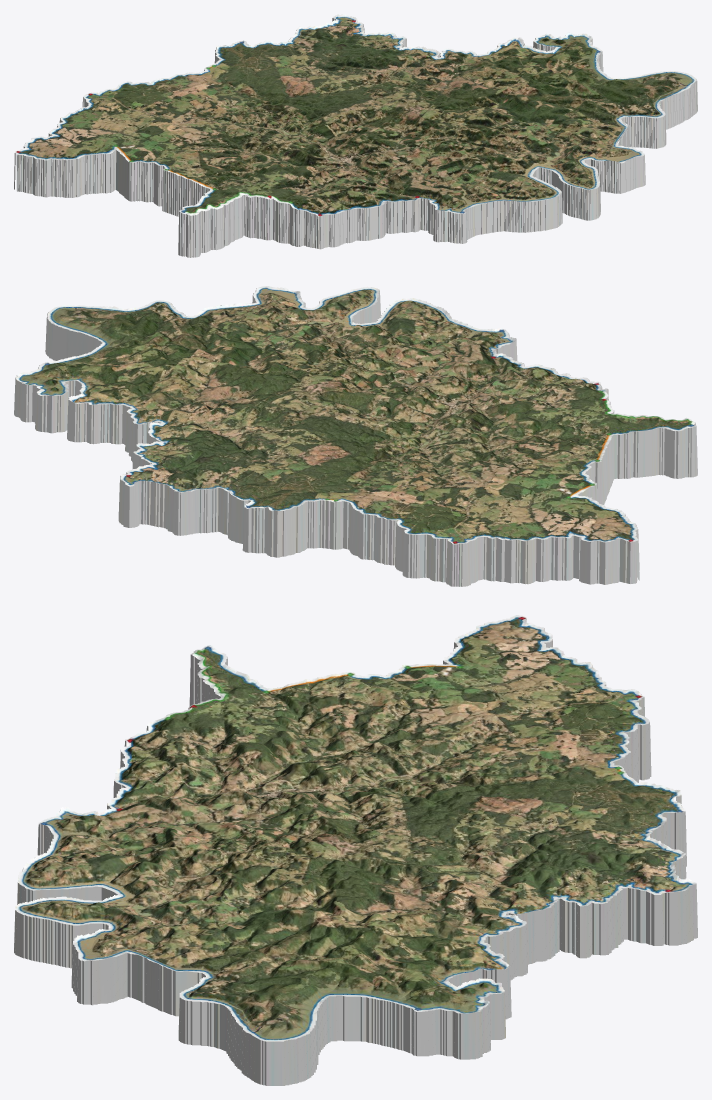
3 views of the same model, one above another, from view 1: azimuth 30°, elevation 25°; view 2: azimuth 150°, elevation 25°; view 3: azimuth 270°, elevation 25° (orthographic). The views are drawn at different scales.
Bounding box in the file's own units: 1 × 0.0699 × 0.6907.
Materials: 1 (1 with a texture image).
